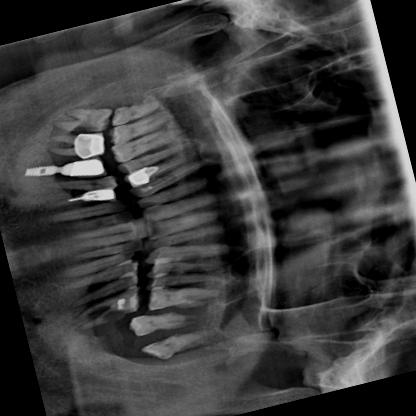Bicon: (14, 152, 67, 191)
